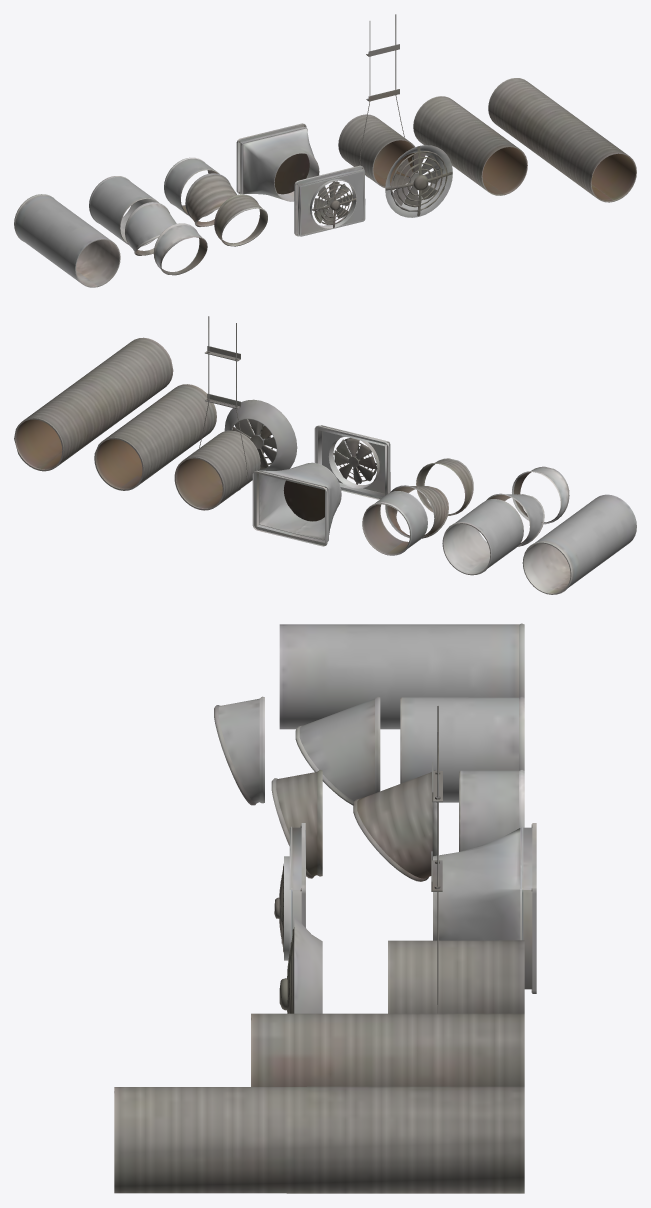
File: modular_airduct_circular_01.glb
The picture shows the model from 3 angles, top to bottom: view 1: azimuth 30°, elevation 25°; view 2: azimuth 150°, elevation 25°; view 3: azimuth 270°, elevation 25°; orthographic projection. The views are drawn at different scales.
Visible parts, largest first — view 1: modular_airduct_rectangular_vent_fan; view 2: modular_airduct_rectangular_vent_fan; view 3: modular_airduct_rectangular_vent_fan.
Part boxes in pixels (x1=…): modular_airduct_rectangular_vent_fan: x1=14, y1=14, x2=636, y2=287; modular_airduct_rectangular_vent_fan: x1=14, y1=316, x2=636, y2=594; modular_airduct_rectangular_vent_fan: x1=114, y1=623, x2=536, y2=1193.
Bounding box in the file's own units: 4.17 × 1.32 × 1.46.
1 material, 1 textured.
